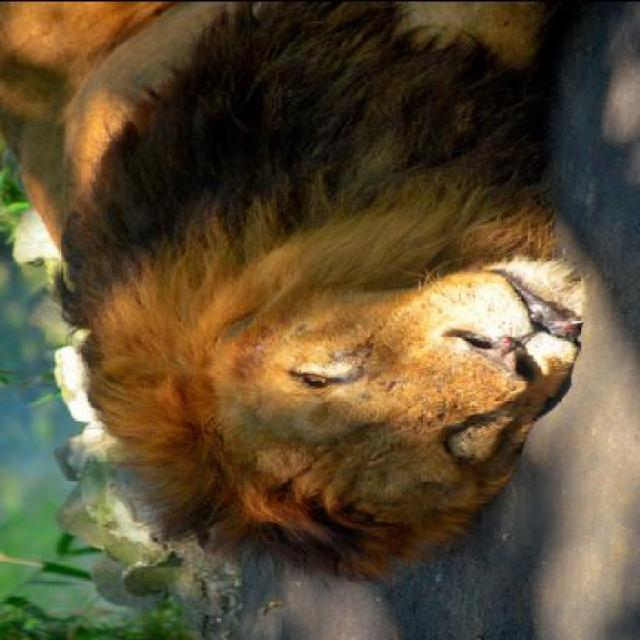Lion: (9, 1, 638, 582)
